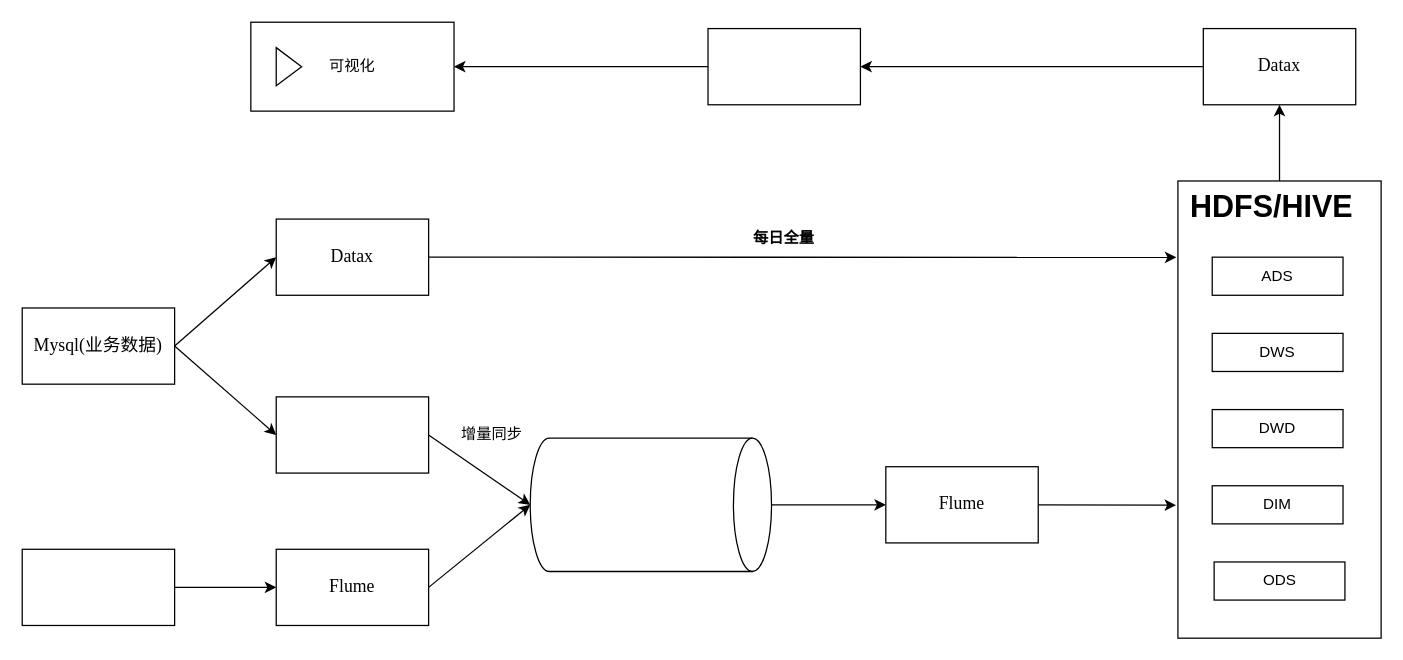
The diagram is 1403 pixels wide and 660 high, and some of its shapes have lost their labels. The centre of each missing label's shape, as x and y in pixels:
"Kafka" goes at (650,504).
"log日志( 用户行为数据 )" goes at (98,586).
"Maxwell" goes at (352,434).
"Mysql" goes at (783,66).
